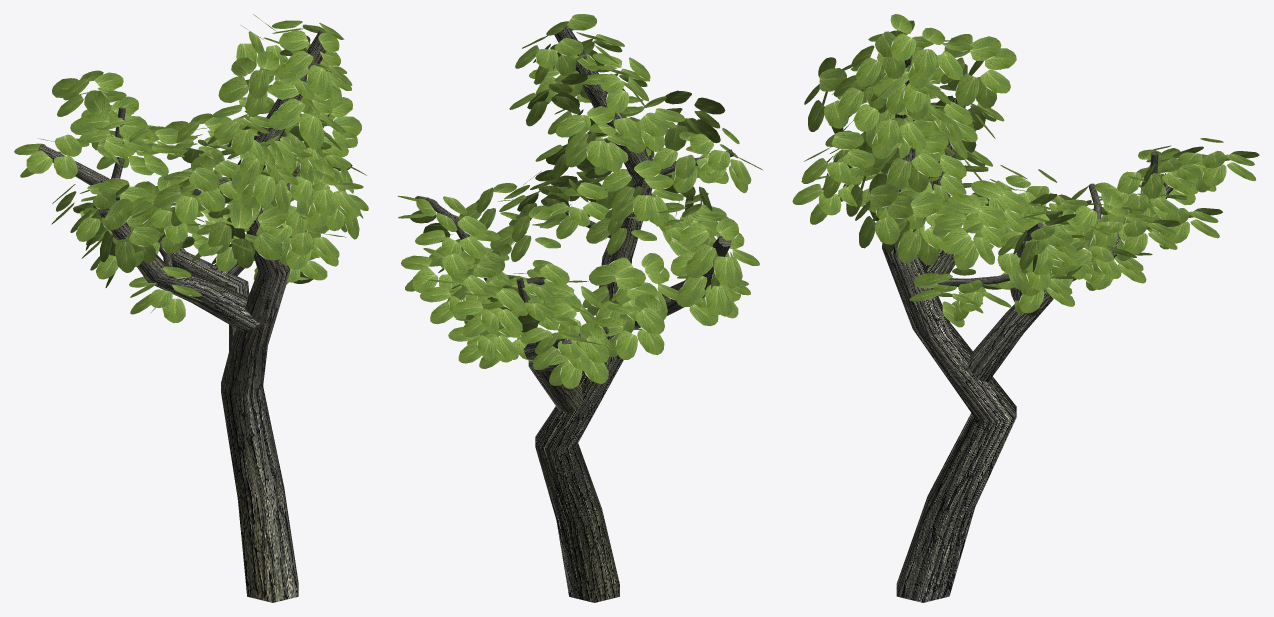
File: TREE3.obj
3 renders of one model, left to right at view 1: azimuth 30°, elevation 25°; view 2: azimuth 150°, elevation 25°; view 3: azimuth 270°, elevation 25°, orthographic. The views are drawn at different scales.
Parts seen in each view (by area): view 1: Cone001, Cone003, Cone002, Plane508, Plane422, Plane248, Plane108, Plane506, Plane102, Plane096, Plane500, Plane510 (+11 smaller); view 2: Cone001, Cone002, Cone003, Plane375, Plane080, Plane063, Plane078, Plane087, Plane284, Plane366, Plane517, Plane377 (+4 smaller); view 3: Cone001, Cone002, Cone003, Plane225, Plane222, Plane204.
Boxes of the visible parts, left/top/right/bottom form: Cone001: left=221, top=31, right=326, bottom=602; Cone003: left=98, top=206, right=259, bottom=331; Cone002: left=38, top=144, right=249, bottom=351; Plane508: left=253, top=232, right=282, bottom=260; Plane422: left=218, top=76, right=248, bottom=102; Plane248: left=253, top=174, right=275, bottom=205; Plane108: left=188, top=167, right=219, bottom=191; Plane506: left=207, top=222, right=231, bottom=253; Plane102: left=175, top=195, right=198, bottom=223; Plane096: left=115, top=241, right=136, bottom=272; Plane500: left=313, top=189, right=336, bottom=216; Plane510: left=230, top=200, right=252, bottom=228; Cone001: left=535, top=26, right=652, bottom=602; Cone002: left=523, top=338, right=582, bottom=413; Cone003: left=634, top=236, right=731, bottom=328; Plane375: left=635, top=307, right=664, bottom=334; Plane080: left=679, top=222, right=709, bottom=247; Plane063: left=615, top=268, right=645, bottom=289; Plane078: left=714, top=256, right=735, bottom=285; Plane087: left=705, top=285, right=726, bottom=315; Plane284: left=638, top=113, right=667, bottom=136; Plane366: left=580, top=336, right=609, bottom=362; Plane517: left=633, top=195, right=655, bottom=221; Plane377: left=615, top=330, right=637, bottom=359; Cone001: left=882, top=56, right=1016, bottom=602; Cone002: left=967, top=184, right=1173, bottom=381; Cone003: left=923, top=98, right=965, bottom=289; Plane225: left=910, top=193, right=943, bottom=217; Plane222: left=897, top=230, right=921, bottom=263; Plane204: left=955, top=74, right=979, bottom=106.
Size of the model in its own units: 69.99 by 119 by 86.38.
2 materials, 2 textured.
